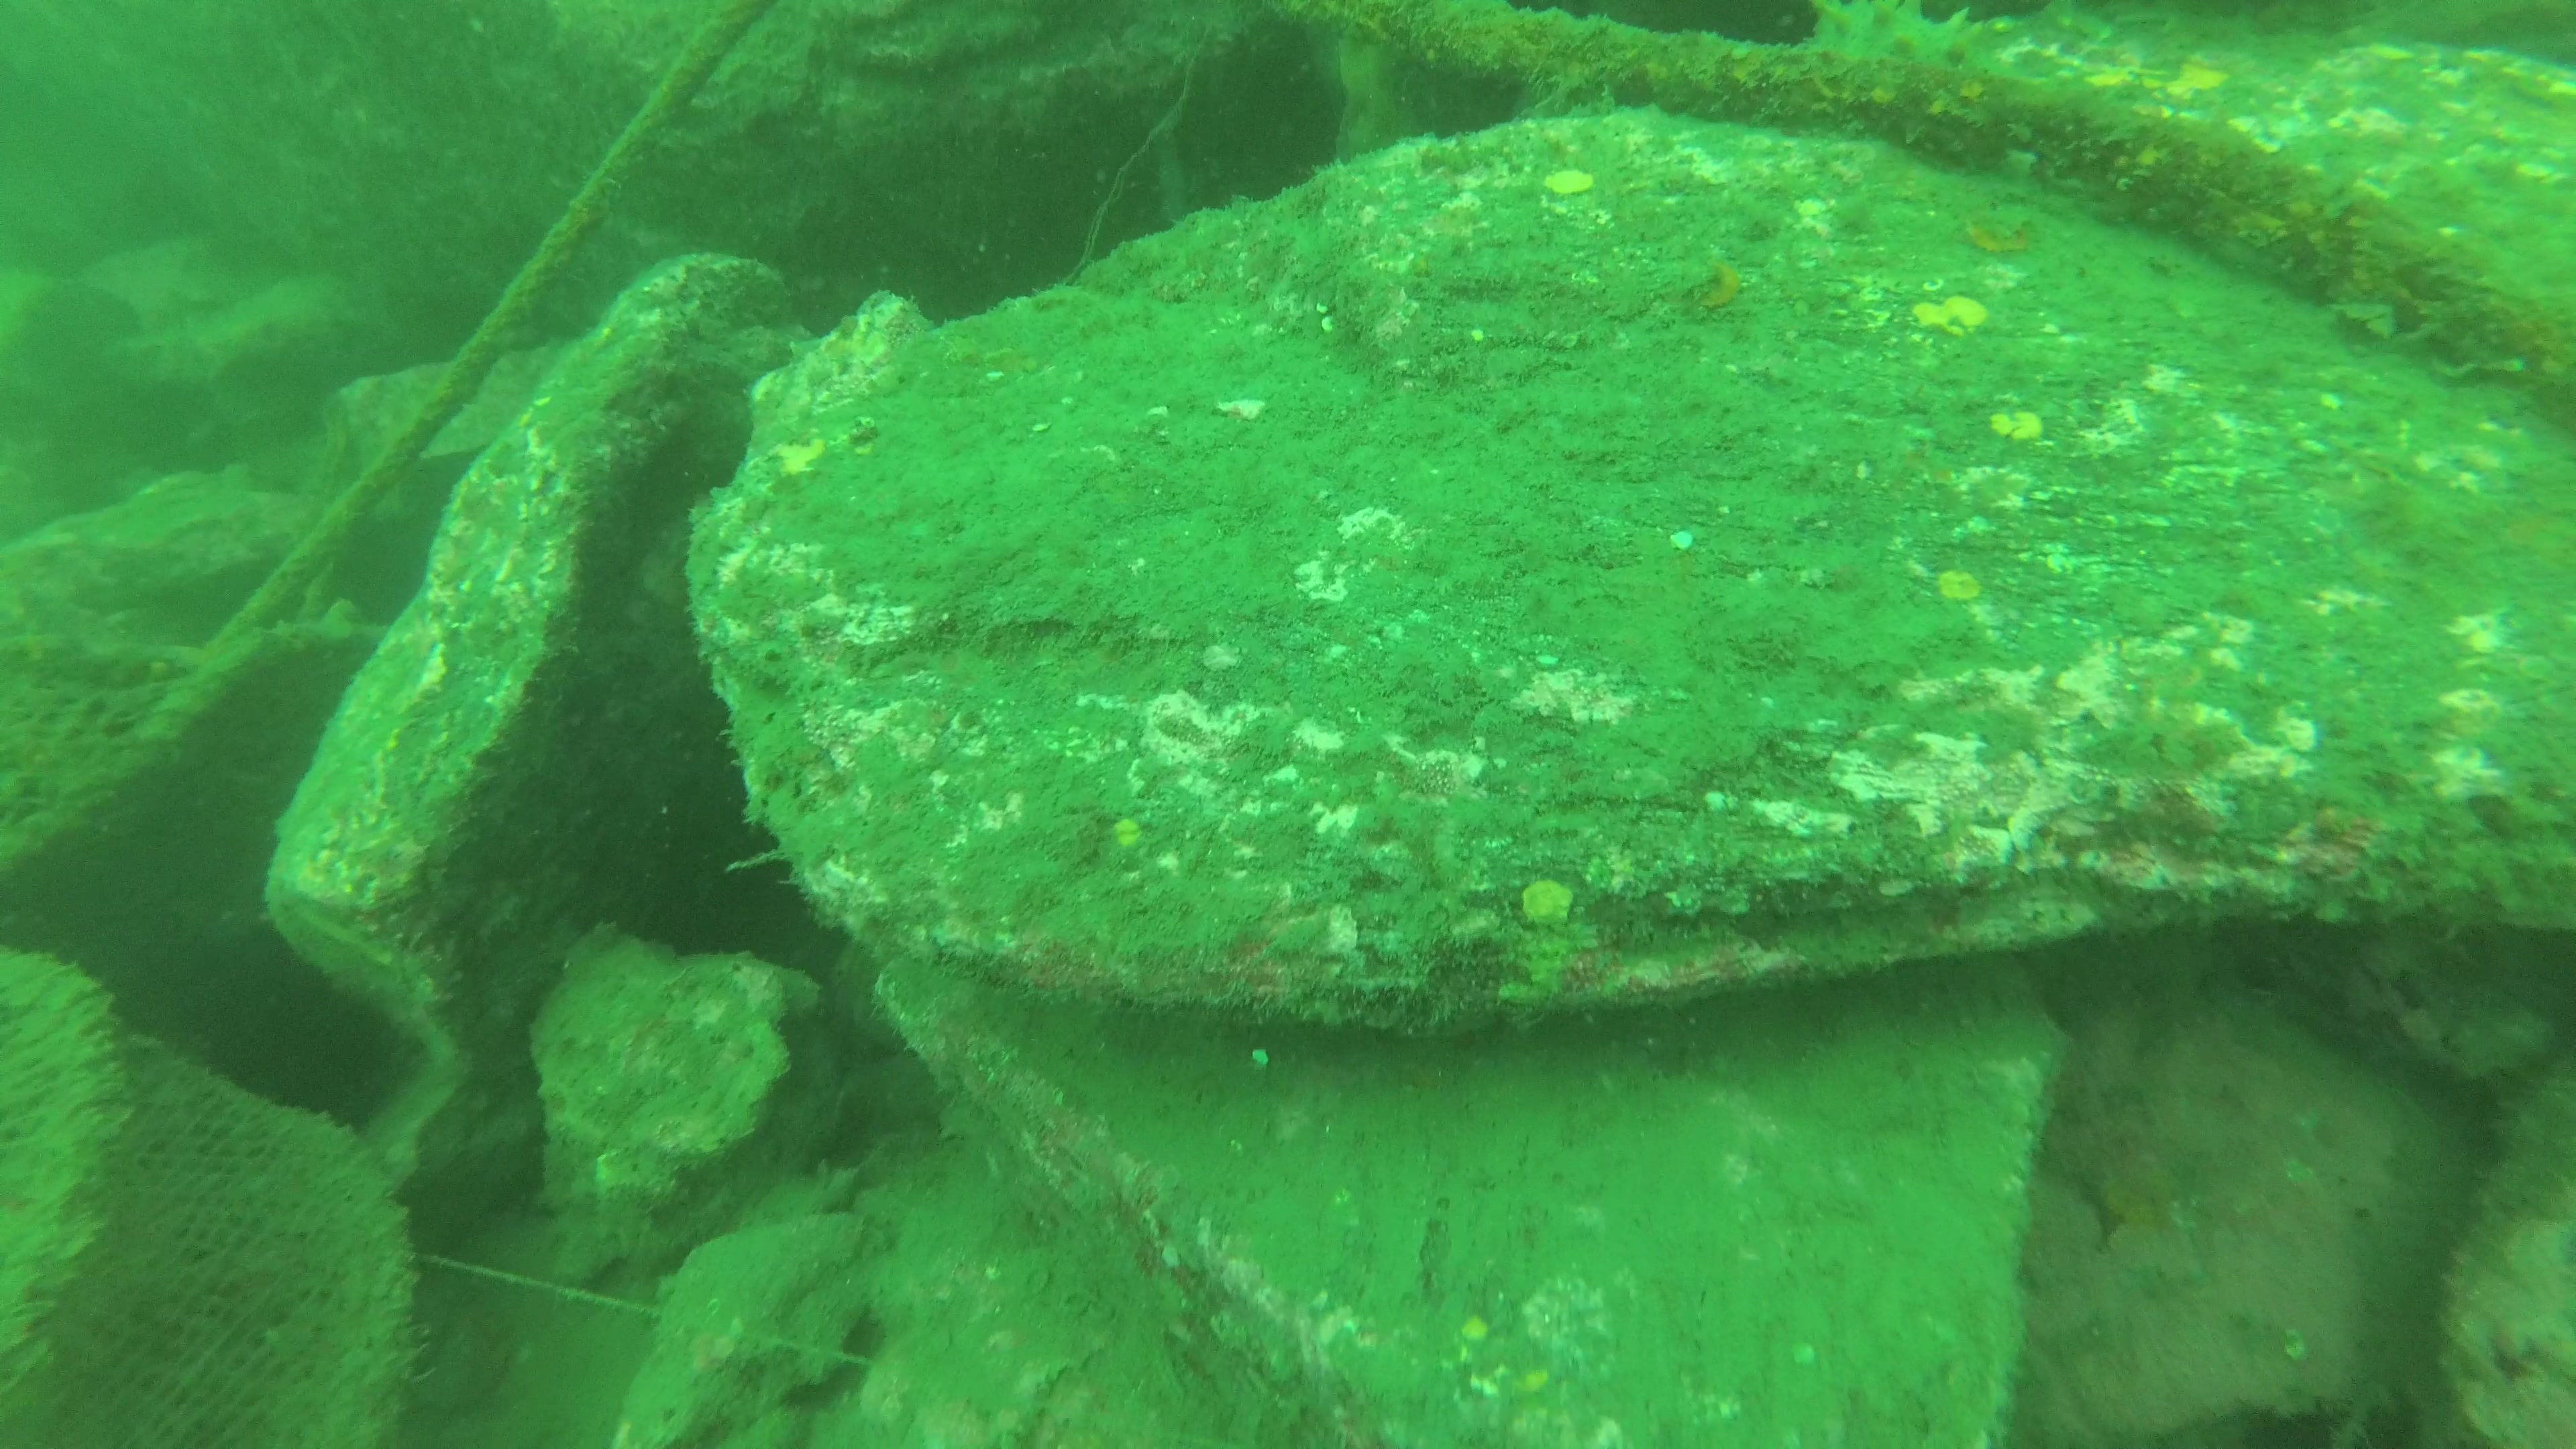holothurian: (1801, 4, 2035, 106)
